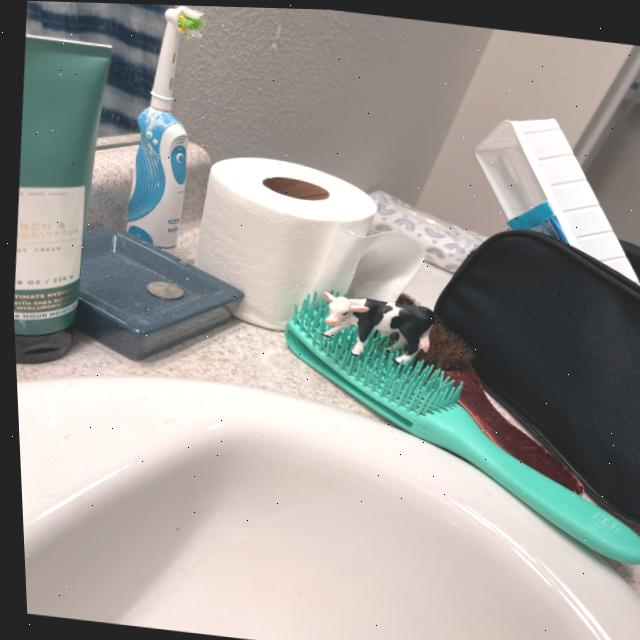cow: (312, 289, 432, 362)
